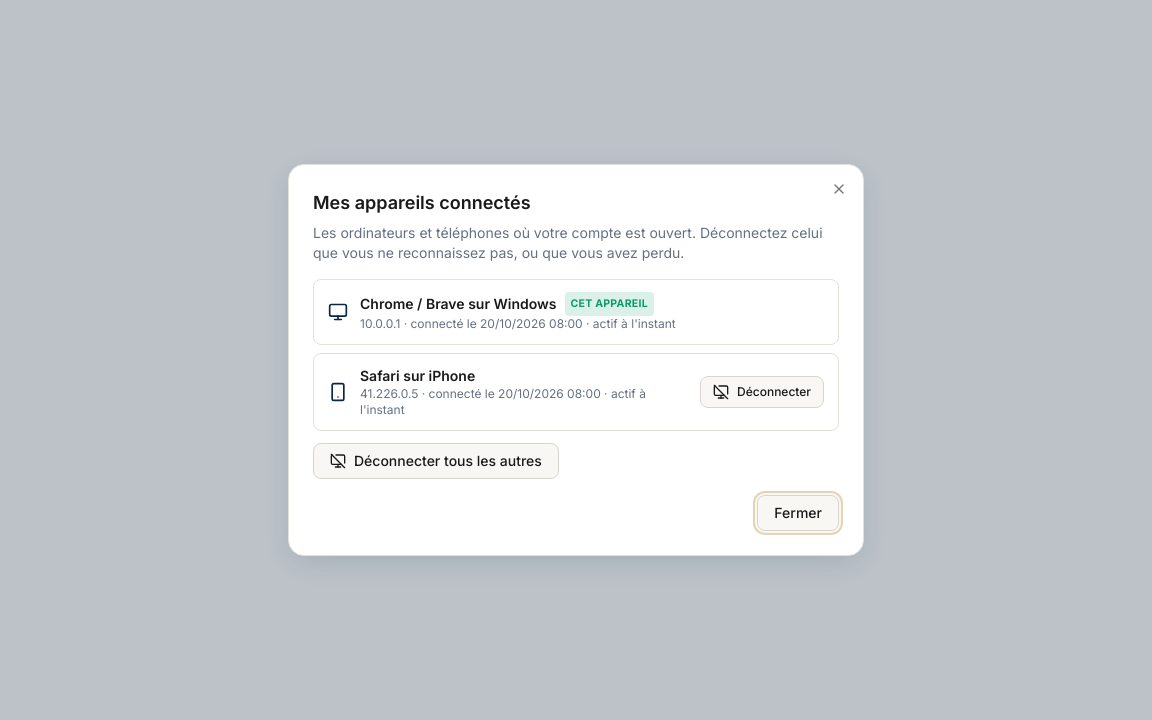
Test: mes appareils connectés › un refus du serveur est annoncé ; la liste reste à jour
This screenshot has width=1152, height=720.
Click the button with aria-label "Déconnecter Safari sur iPhone" at {"x": 762, "y": 392}, box [700,376,824,408]
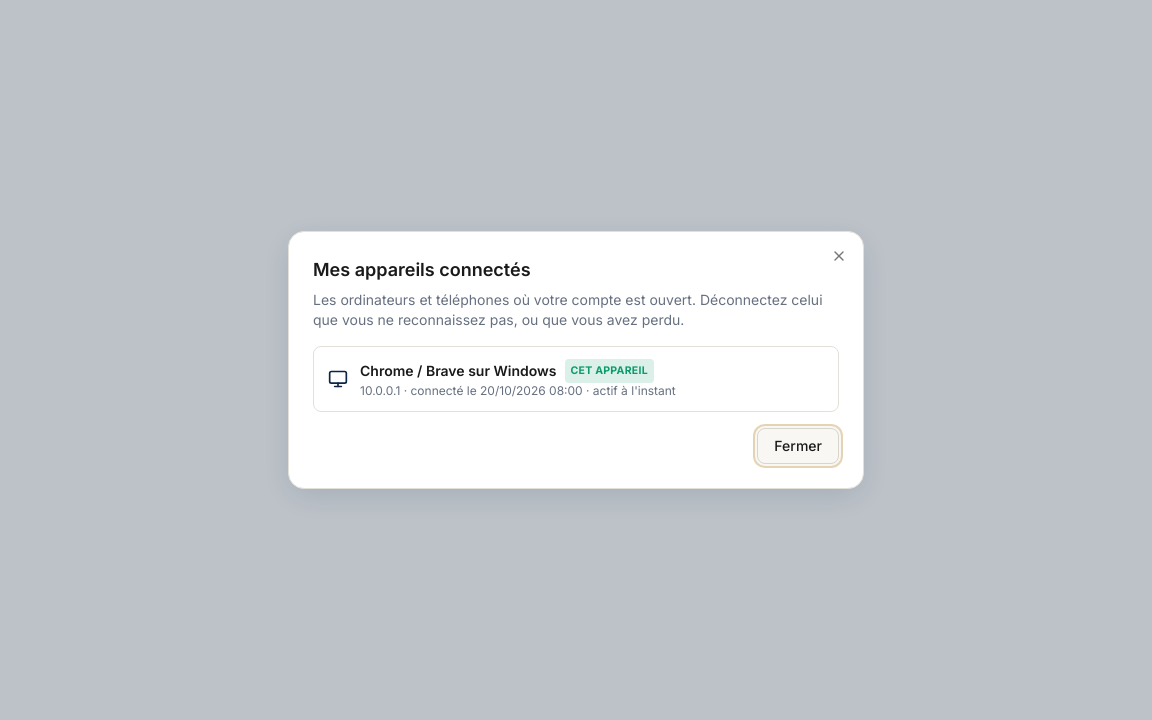
Expected: the text "Safari sur iPhone" is gone
